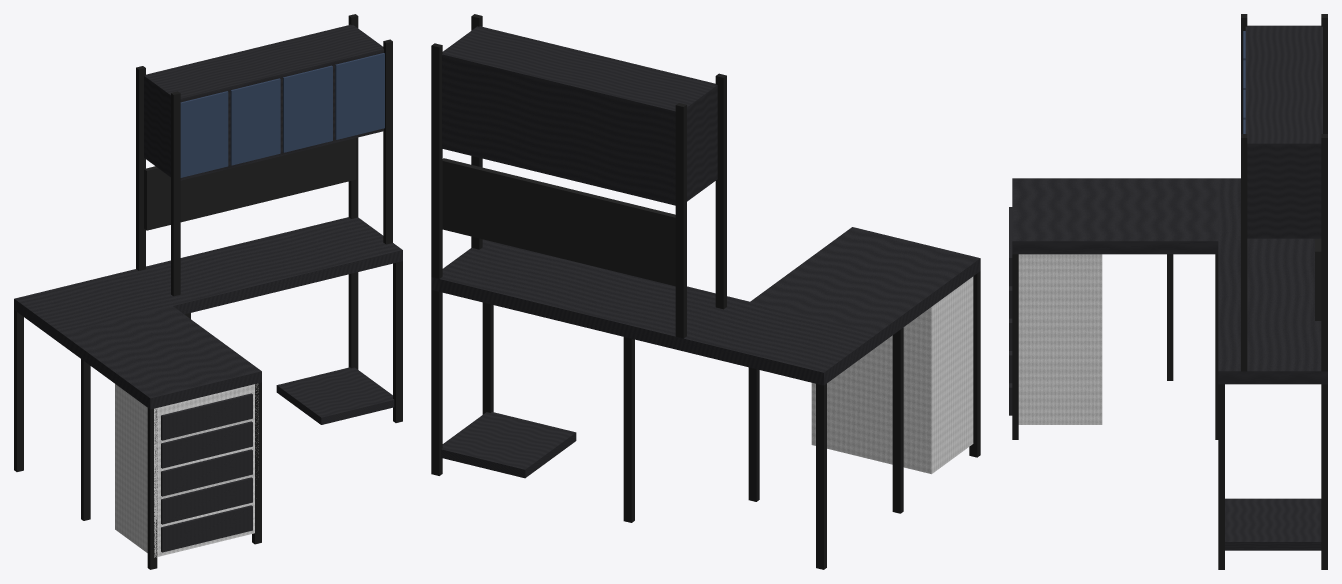
3 renders of one model, left to right at view 1: azimuth 30°, elevation 25°; view 2: azimuth 150°, elevation 25°; view 3: azimuth 270°, elevation 25°, orthographic. The views are drawn at different scales.
Visible parts, largest first — view 1: 1 desktop_back, 2 desktop_left, 23 display_cabinet, 22 pegboard, 3 drawer_cabinet, 9 cpu_shelf, 25 cabinet_door_2, 26 cabinet_door_3, 27 cabinet_door_4, 24 cabinet_door_1, 8 drawer_front_5, 7 drawer_front_4 (+13 smaller); view 2: 23 display_cabinet, 1 desktop_back, 3 drawer_cabinet, 22 pegboard, 2 desktop_left, 9 cpu_shelf, 19 hutch_frame_left_back, 21 hutch_frame_right_back, 18 hutch_frame_left_front, 15 leg_back_mid, 16 leg_back_right, 12 leg_mid_left (+4 smaller); view 3: 23 display_cabinet, 2 desktop_left, 1 desktop_back, 3 drawer_cabinet, 9 cpu_shelf, 21 hutch_frame_right_back, 20 hutch_frame_right_front, 11 leg_front_drawer_right, 16 leg_back_right, 17 leg_right_front, 12 leg_mid_left, 13 leg_inner_corner (+3 smaller).
Boxes of the visible parts, left/top/right/bottom form: 1 desktop_back: left=14, top=217, right=402, bottom=343; 2 desktop_left: left=61, top=306, right=261, bottom=409; 23 display_cabinet: left=144, top=24, right=383, bottom=180; 22 pegboard: left=144, top=138, right=355, bottom=230; 3 drawer_cabinet: left=115, top=383, right=258, bottom=557; 9 cpu_shelf: left=276, top=367, right=394, bottom=424; 25 cabinet_door_2: left=230, top=78, right=280, bottom=165; 26 cabinet_door_3: left=283, top=65, right=332, bottom=152; 27 cabinet_door_4: left=335, top=53, right=384, bottom=139; 24 cabinet_door_1: left=180, top=91, right=228, bottom=177; 8 drawer_front_5: left=161, top=393, right=252, bottom=440; 7 drawer_front_4: left=161, top=421, right=252, bottom=468; 23 display_cabinet: left=442, top=26, right=717, bottom=205; 1 desktop_back: left=431, top=239, right=878, bottom=385; 3 drawer_cabinet: left=811, top=276, right=973, bottom=474; 22 pegboard: left=442, top=158, right=675, bottom=286; 2 desktop_left: left=750, top=227, right=980, bottom=345; 9 cpu_shelf: left=441, top=412, right=576, bottom=478; 19 hutch_frame_left_back: left=675, top=103, right=686, bottom=338; 21 hutch_frame_right_back: left=431, top=43, right=442, bottom=278; 18 hutch_frame_left_front: left=715, top=73, right=726, bottom=309; 15 leg_back_mid: left=623, top=337, right=634, bottom=522; 16 leg_back_right: left=431, top=290, right=442, bottom=475; 12 leg_mid_left: left=892, top=327, right=903, bottom=513; 23 display_cabinet: left=1245, top=25, right=1322, bottom=238; 2 desktop_left: left=1012, top=178, right=1218, bottom=254; 1 desktop_back: left=1218, top=178, right=1327, bottom=384; 3 drawer_cabinet: left=1018, top=254, right=1102, bottom=424; 9 cpu_shelf: left=1225, top=498, right=1321, bottom=550; 21 hutch_frame_right_back: left=1321, top=134, right=1327, bottom=371; 20 hutch_frame_right_front: left=1241, top=134, right=1247, bottom=371; 11 leg_front_drawer_right: left=1012, top=254, right=1018, bottom=439; 16 leg_back_right: left=1321, top=384, right=1327, bottom=569; 17 leg_right_front: left=1218, top=384, right=1224, bottom=569; 12 leg_mid_left: left=1167, top=254, right=1173, bottom=380; 13 leg_inner_corner: left=1215, top=254, right=1218, bottom=439.
Size of the model in its own units: 0.958 by 1 by 0.669.
Materials: 6 (3 with a texture image).
